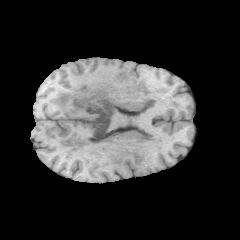glioma: (49, 67, 181, 168)
